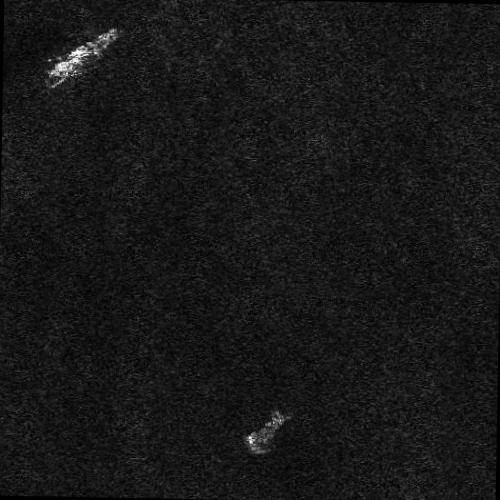ship: (48, 27, 121, 84), (245, 413, 287, 454)
